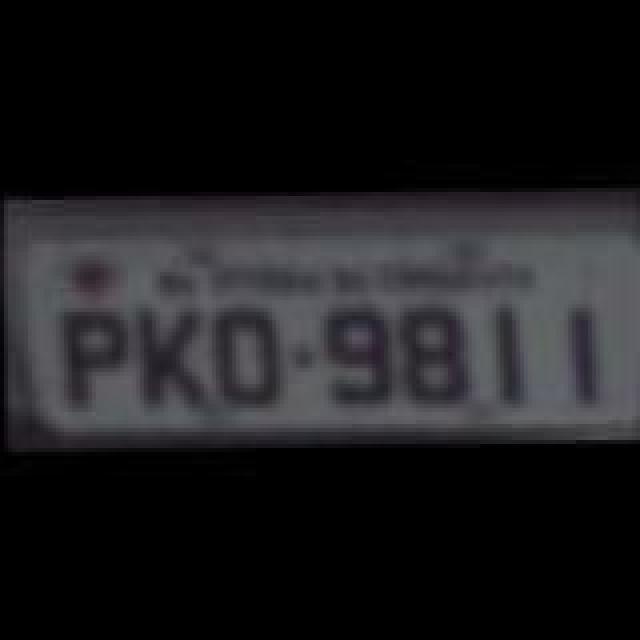1: (568, 294, 604, 402), (488, 302, 524, 402)
8: (396, 300, 472, 408)
9: (324, 298, 400, 406)
K: (132, 304, 208, 412)
O: (216, 296, 284, 404)
P: (58, 304, 130, 408)
